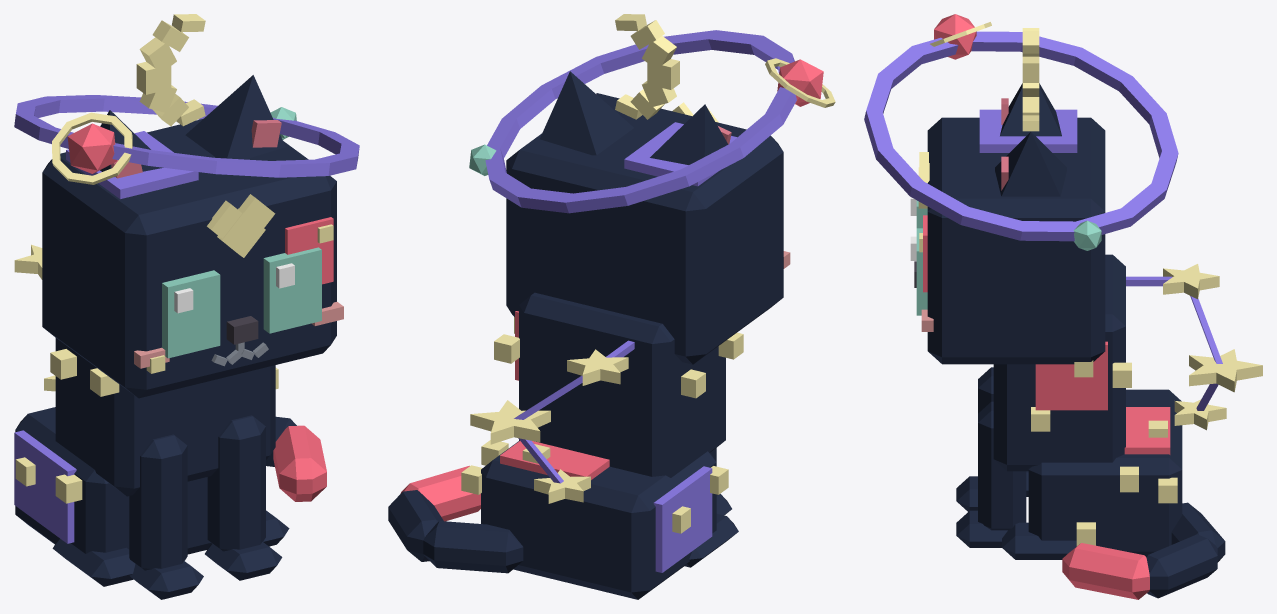
File: CatCafe_Cat_Nebula_Sit.glb
3 views of the same model, side by side, from view 1: azimuth 30°, elevation 25°; view 2: azimuth 150°, elevation 25°; view 3: azimuth 270°, elevation 25° (orthographic). The views are drawn at different scales.
Parts seen in each view (by area): view 1: CatCafe_Cat_Nebula_Sit_Head, CatCafe_Cat_Nebula_Sit_Body, CatCafe_Cat_Nebula_Sit_Glow, CatCafe_Cat_Nebula_Sit_LegF1, CatCafe_Cat_Nebula_Sit_LegF2, CatCafe_Cat_Nebula_Sit_EarL, CatCafe_Cat_Nebula_Sit_Eye2, CatCafe_Cat_Nebula_Sit_Eye1, CatCafe_Cat_Nebula_Sit_Prop, CatCafe_Cat_Nebula_Sit_Tail, CatCafe_Cat_Nebula_Sit_EarR, CatCafe_Cat_Nebula_Sit_Stars_Glow; view 2: CatCafe_Cat_Nebula_Sit_Body, CatCafe_Cat_Nebula_Sit_Head, CatCafe_Cat_Nebula_Sit_Glow, CatCafe_Cat_Nebula_Sit_Tail, CatCafe_Cat_Nebula_Sit_Stars_Glow, CatCafe_Cat_Nebula_Sit_EarL, CatCafe_Cat_Nebula_Sit_Prop, CatCafe_Cat_Nebula_Sit_EarR; view 3: CatCafe_Cat_Nebula_Sit_Head, CatCafe_Cat_Nebula_Sit_Body, CatCafe_Cat_Nebula_Sit_Glow, CatCafe_Cat_Nebula_Sit_Tail, CatCafe_Cat_Nebula_Sit_LegF1, CatCafe_Cat_Nebula_Sit_Stars_Glow, CatCafe_Cat_Nebula_Sit_EarL, CatCafe_Cat_Nebula_Sit_Prop, CatCafe_Cat_Nebula_Sit_EarR, CatCafe_Cat_Nebula_Sit_LegF2, CatCafe_Cat_Nebula_Sit_Eye1.
Part boxes in pixels (<box>): CatCafe_Cat_Nebula_Sit_Head: <box>42,118,343,398</box>; CatCafe_Cat_Nebula_Sit_Body: <box>14,338,289,586</box>; CatCafe_Cat_Nebula_Sit_Glow: <box>14,14,359,177</box>; CatCafe_Cat_Nebula_Sit_LegF1: <box>205,415,282,580</box>; CatCafe_Cat_Nebula_Sit_LegF2: <box>129,434,203,599</box>; CatCafe_Cat_Nebula_Sit_EarL: <box>185,75,285,159</box>; CatCafe_Cat_Nebula_Sit_Eye2: <box>162,270,220,358</box>; CatCafe_Cat_Nebula_Sit_Eye1: <box>263,247,321,333</box>; CatCafe_Cat_Nebula_Sit_Prop: <box>52,107,296,184</box>; CatCafe_Cat_Nebula_Sit_Tail: <box>266,416,326,501</box>; CatCafe_Cat_Nebula_Sit_EarR: <box>100,110,163,178</box>; CatCafe_Cat_Nebula_Sit_Stars_Glow: <box>14,244,55,391</box>; CatCafe_Cat_Nebula_Sit_Body: <box>461,292,743,599</box>; CatCafe_Cat_Nebula_Sit_Head: <box>506,93,790,364</box>; CatCafe_Cat_Nebula_Sit_Glow: <box>485,14,796,213</box>; CatCafe_Cat_Nebula_Sit_Tail: <box>388,465,523,573</box>; CatCafe_Cat_Nebula_Sit_Stars_Glow: <box>470,349,628,503</box>; CatCafe_Cat_Nebula_Sit_EarL: <box>540,71,633,155</box>; CatCafe_Cat_Nebula_Sit_Prop: <box>469,58,835,175</box>; CatCafe_Cat_Nebula_Sit_EarR: <box>650,104,731,164</box>; CatCafe_Cat_Nebula_Sit_Head: <box>914,109,1105,364</box>; CatCafe_Cat_Nebula_Sit_Body: <box>993,254,1182,559</box>; CatCafe_Cat_Nebula_Sit_Glow: <box>864,28,1178,241</box>; CatCafe_Cat_Nebula_Sit_Tail: <box>1062,502,1225,599</box>; CatCafe_Cat_Nebula_Sit_LegF1: <box>956,401,1026,547</box>; CatCafe_Cat_Nebula_Sit_Stars_Glow: <box>1163,264,1262,430</box>; CatCafe_Cat_Nebula_Sit_EarL: <box>995,132,1066,196</box>; CatCafe_Cat_Nebula_Sit_Prop: <box>930,14,1101,250</box>; CatCafe_Cat_Nebula_Sit_EarR: <box>1000,83,1061,136</box>; CatCafe_Cat_Nebula_Sit_LegF2: <box>956,367,993,511</box>; CatCafe_Cat_Nebula_Sit_Eye1: <box>910,228,927,315</box>.
Size of the model in its own units: 1.48 by 2.14 by 1.58.
1 material, 1 textured.
